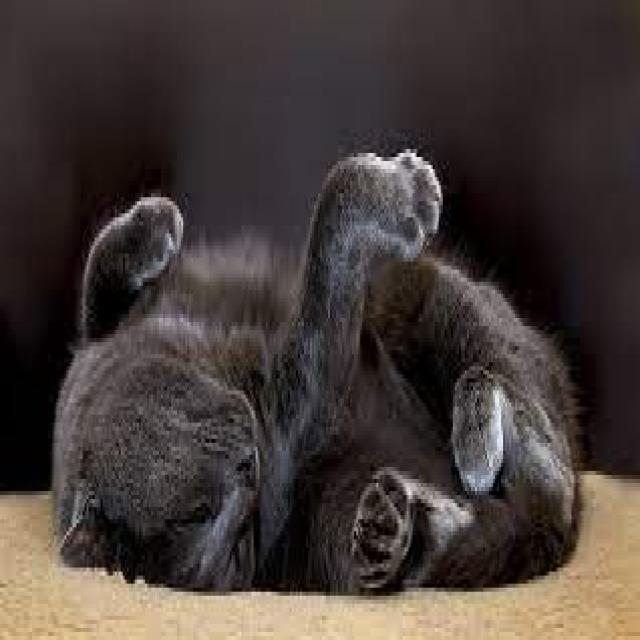cat: (52, 145, 595, 602)
